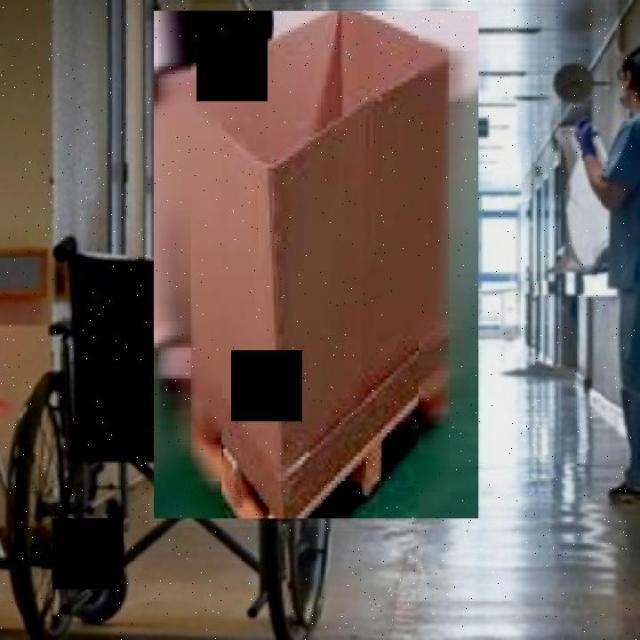box: (150, 4, 484, 528)
